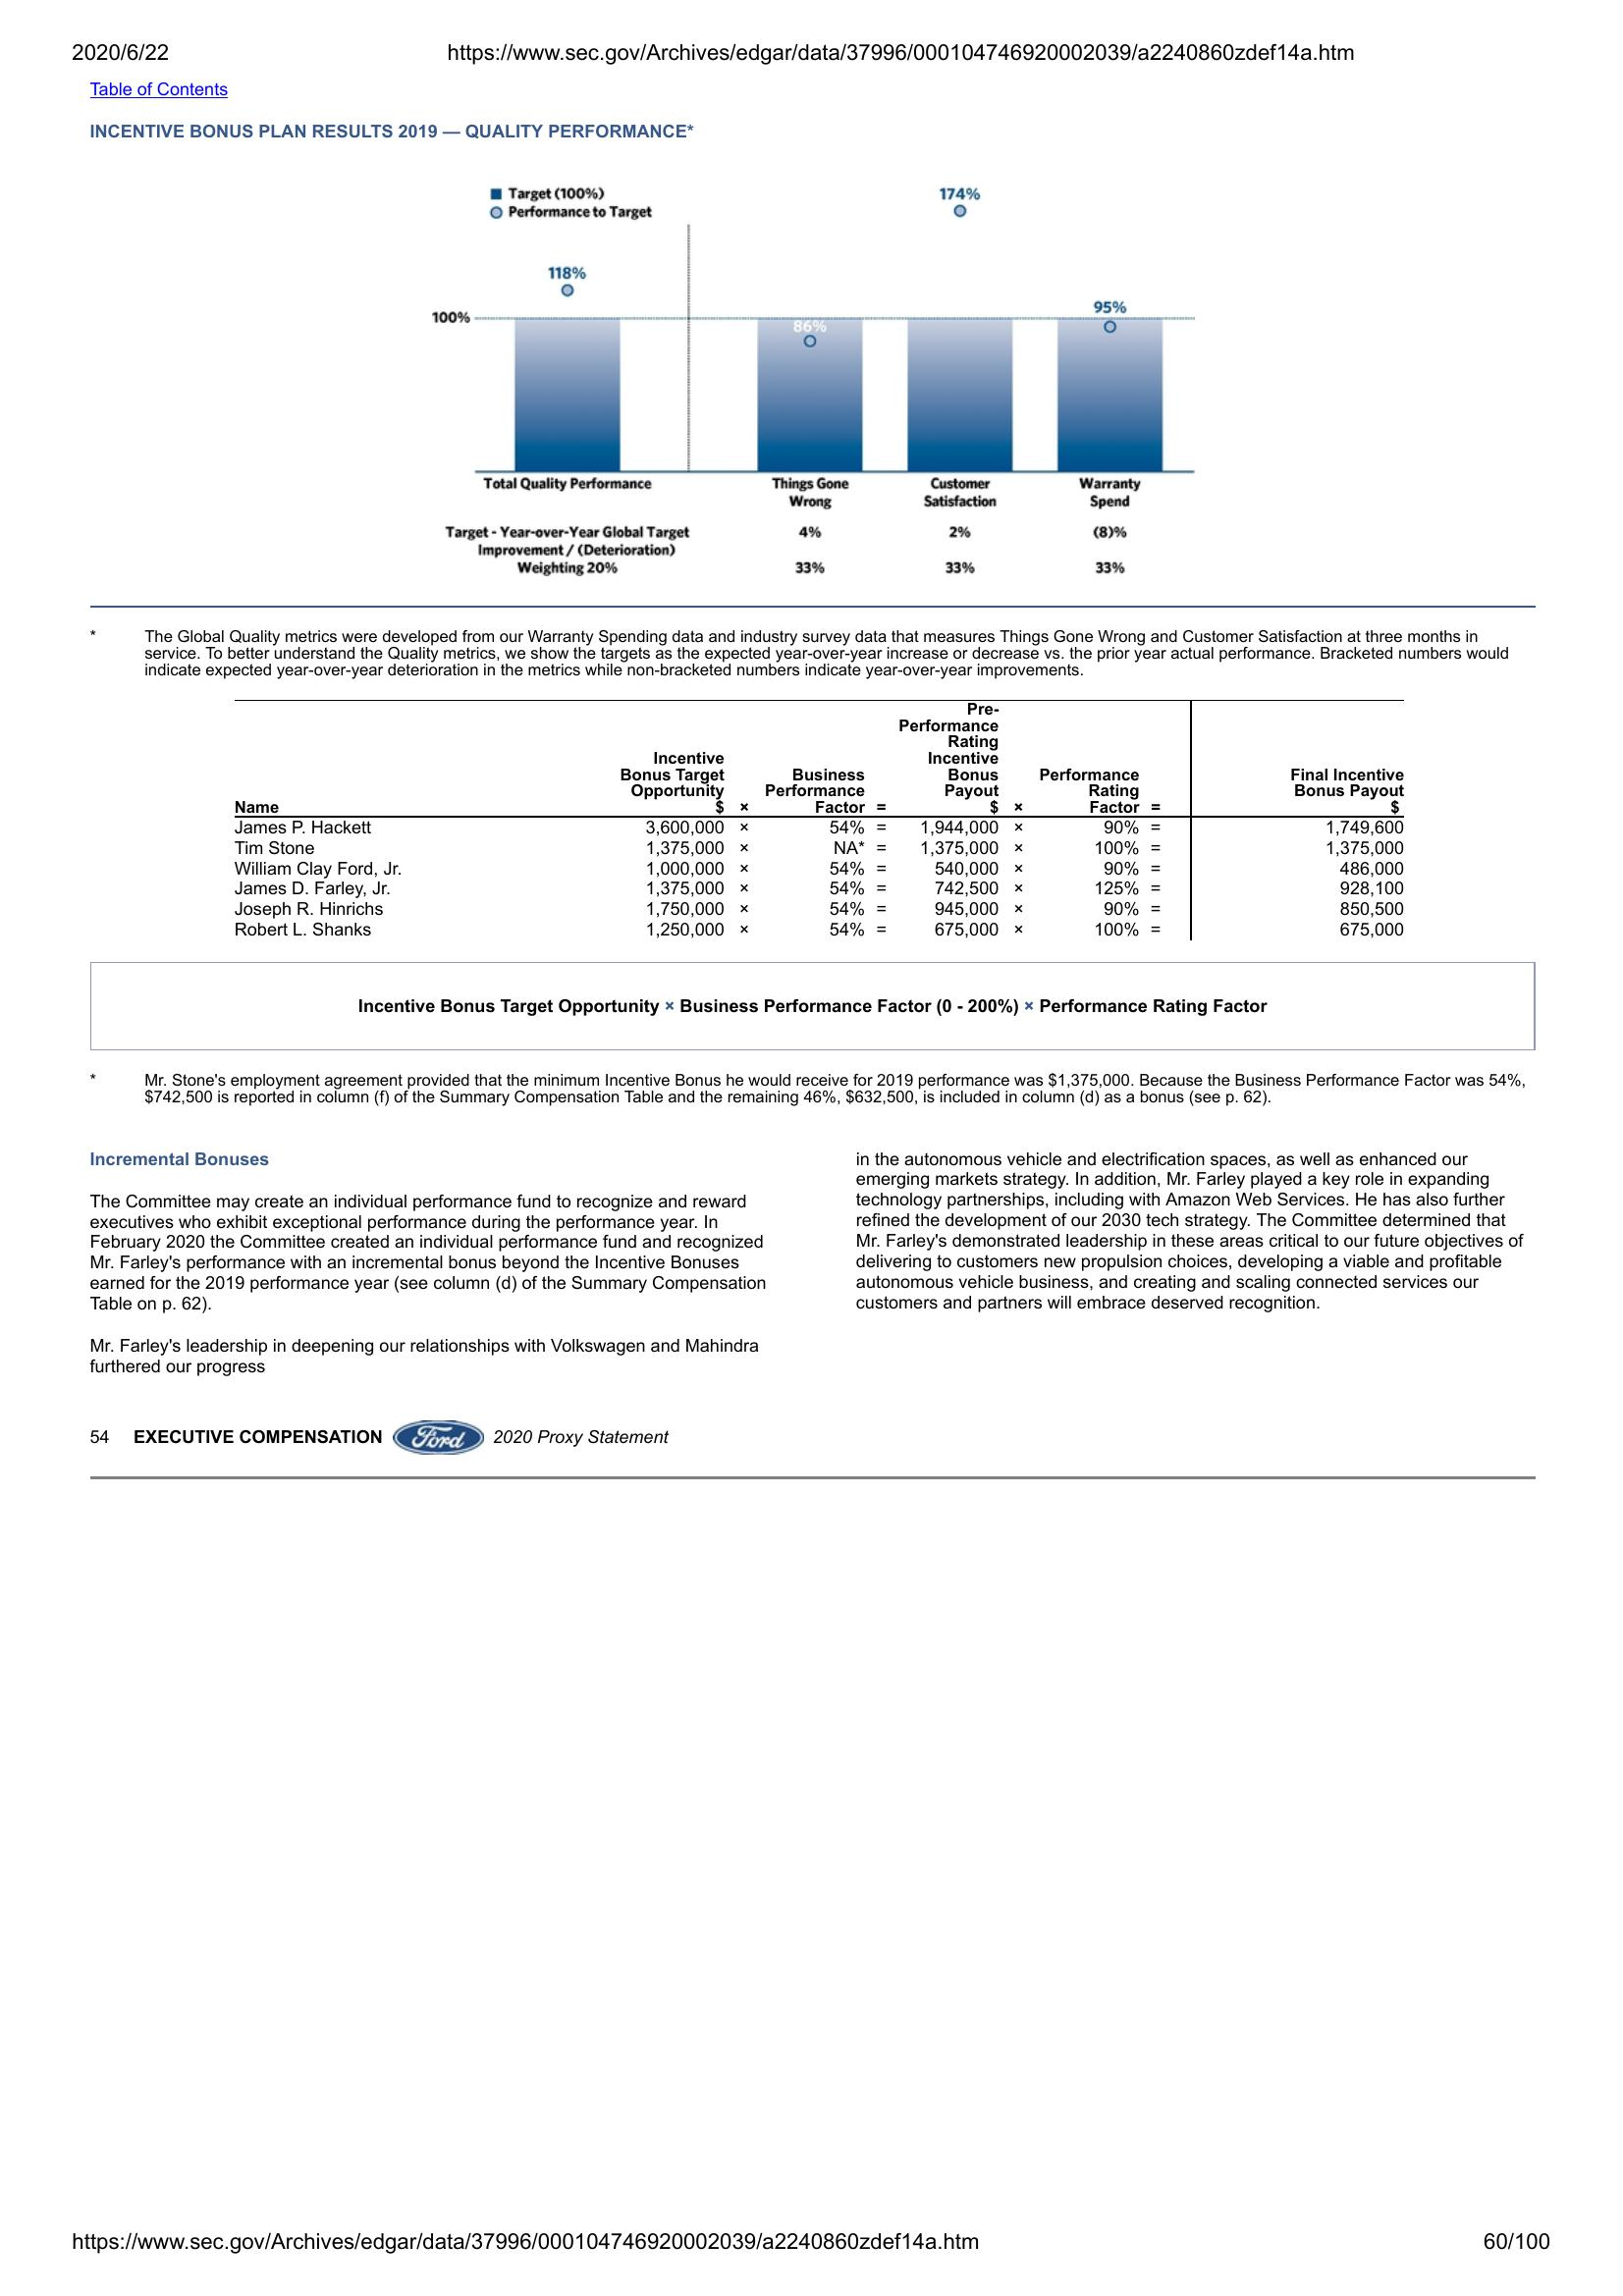table: (223, 693, 1414, 941)
